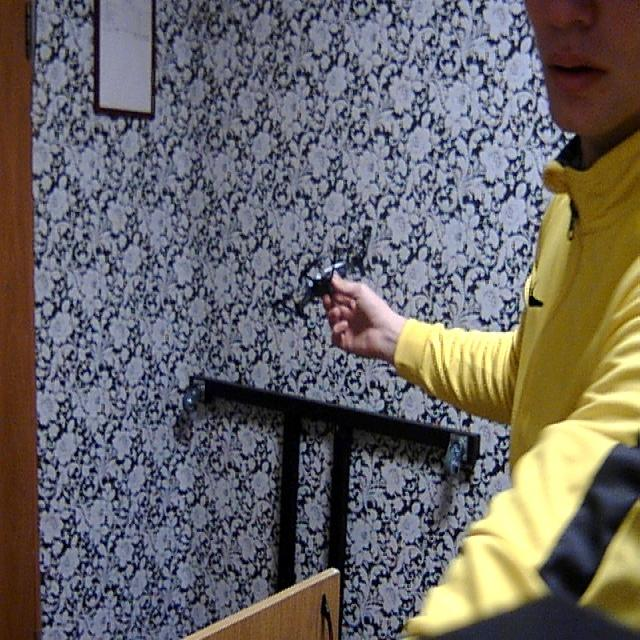drone: (266, 223, 388, 323)
